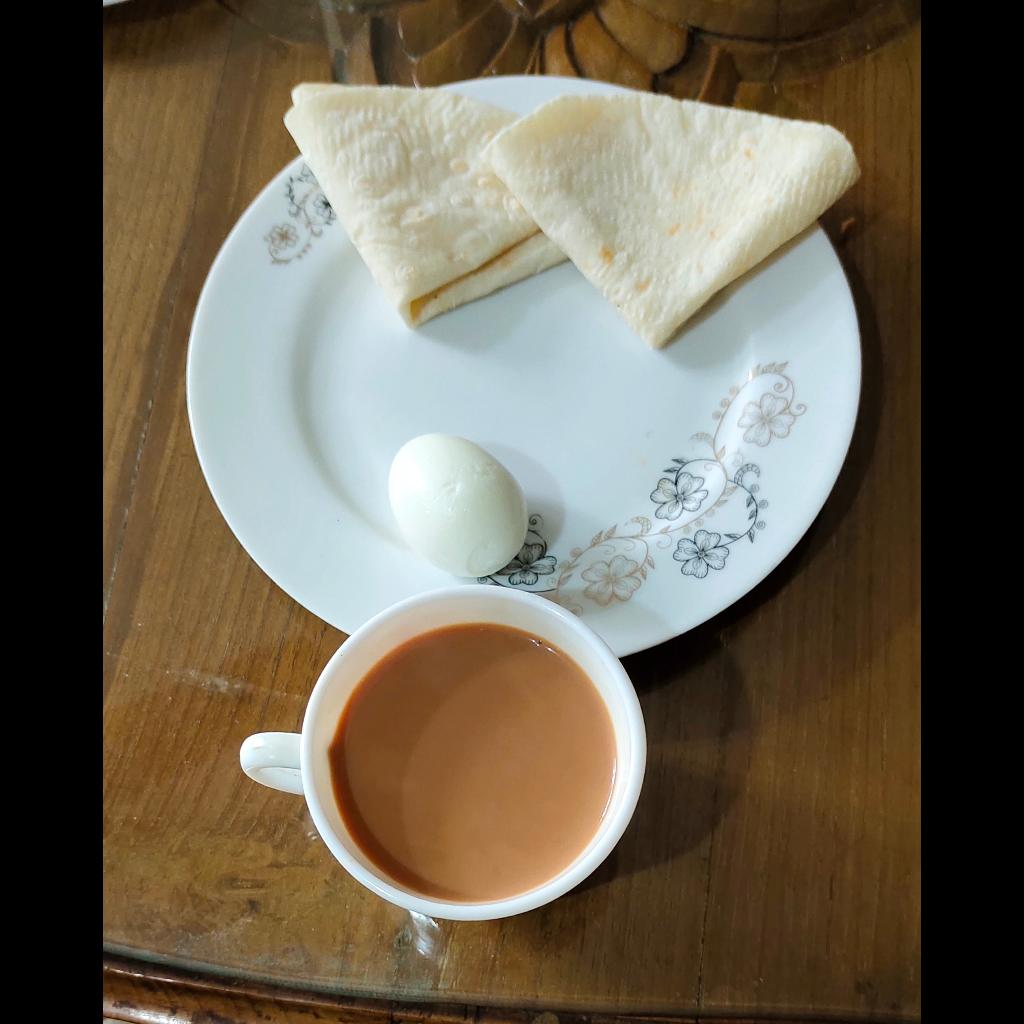cha: (331, 621, 616, 902)
egg-boiled: (389, 427, 529, 571)
ruti: (283, 81, 861, 352)
